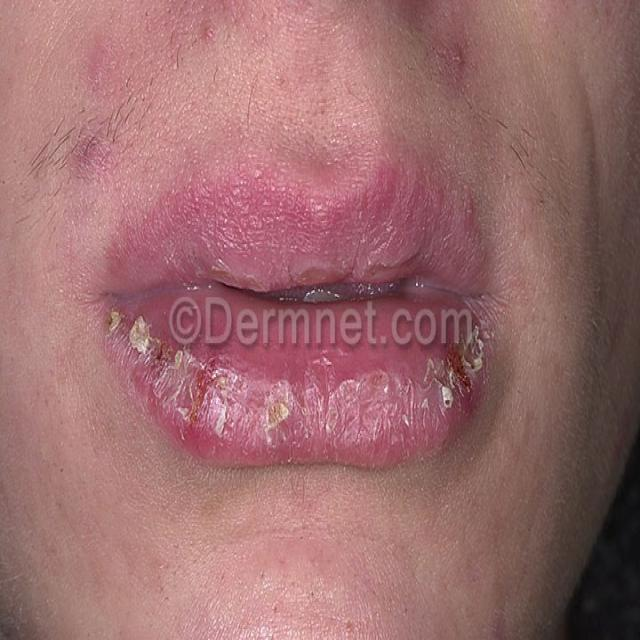Acne: (390, 0, 500, 92)
Dry-Skin: (93, 311, 490, 487), (59, 115, 117, 208)
